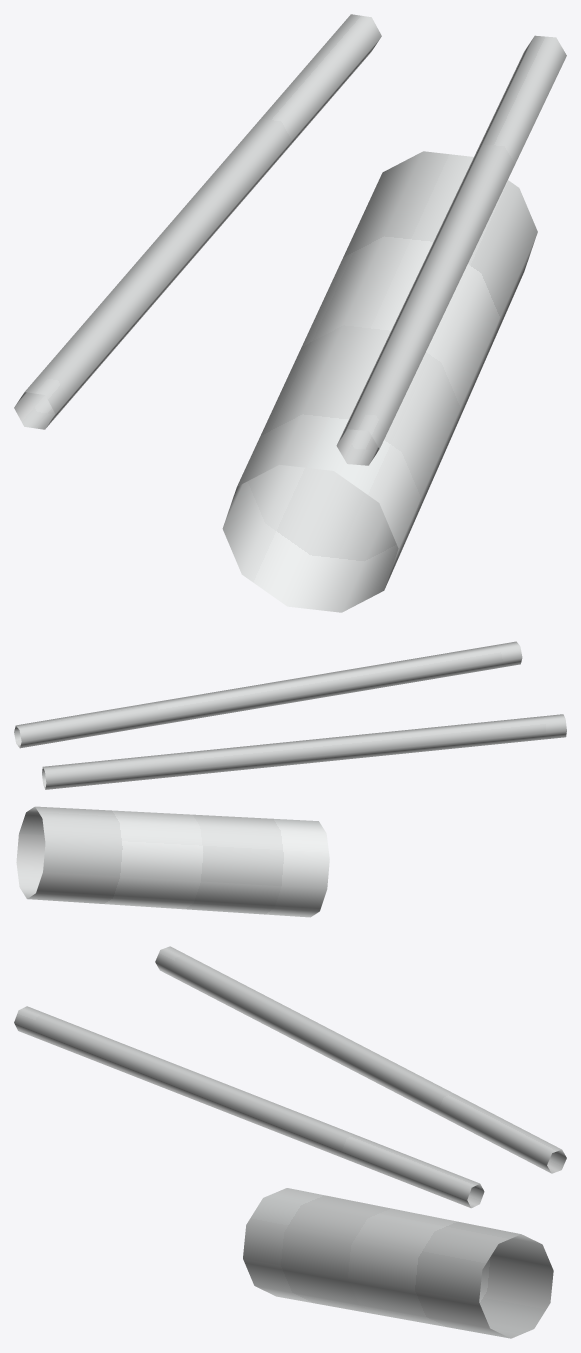
File: nycsignalarm_diagonal6_c10.obj
3 views of the same model, one above another, from view 1: azimuth 30°, elevation 25°; view 2: azimuth 150°, elevation 25°; view 3: azimuth 270°, elevation 25° (orthographic). The views are drawn at different scales.
Visible parts, largest first — view 1: nycsignalarm_diagonal6_c10; view 2: nycsignalarm_diagonal6_c10; view 3: nycsignalarm_diagonal6_c10.
Boxes of the visible parts, x1=… form: nycsignalarm_diagonal6_c10: x1=14, y1=14, x2=566, y2=612; nycsignalarm_diagonal6_c10: x1=14, y1=641, x2=566, y2=917; nycsignalarm_diagonal6_c10: x1=14, y1=946, x2=566, y2=1338.
Bounding box in the file's own units: 1.31 × 0.6038 × 1.31.
